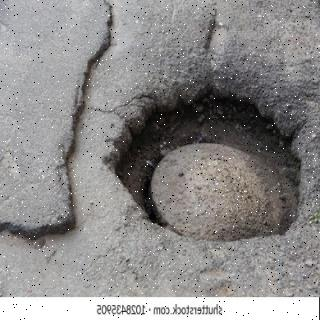pothole: (110, 81, 304, 243)
